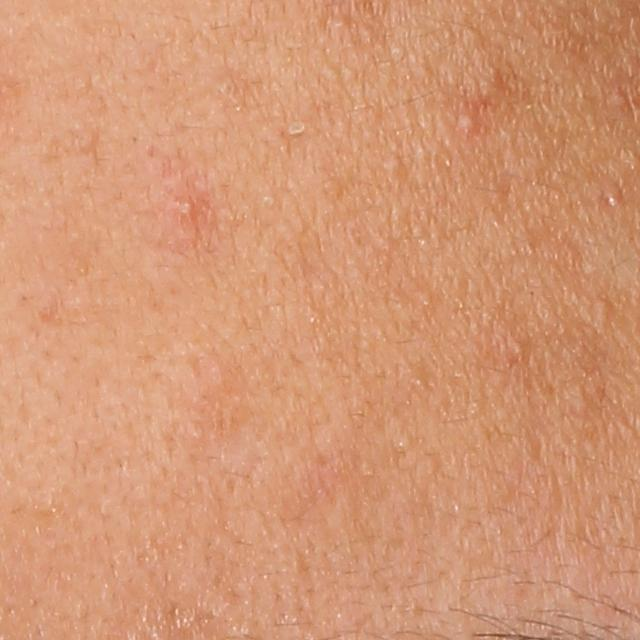comedo: (377, 155, 407, 179), (507, 333, 527, 359), (590, 299, 612, 322), (603, 182, 624, 206)
papule: (169, 187, 207, 225)
